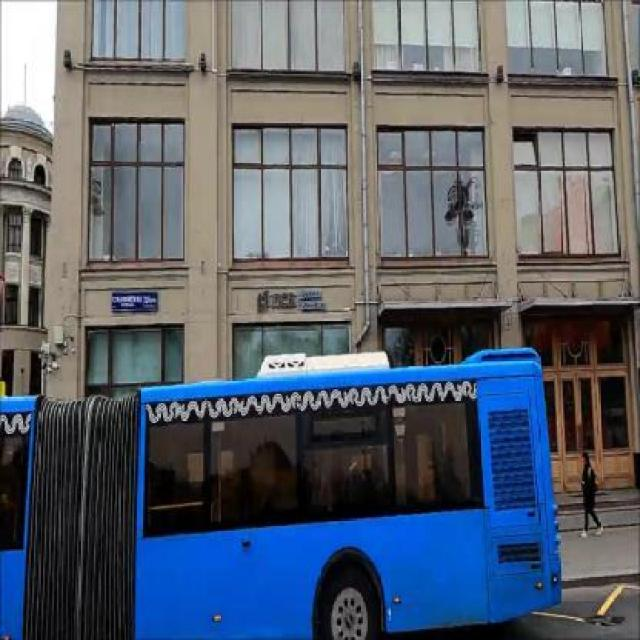bus: (1, 344, 566, 640)
